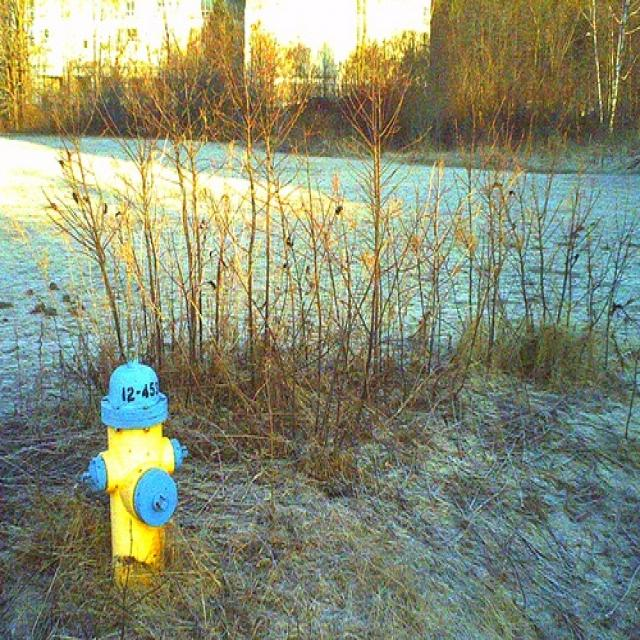fire_hydrant: (78, 345, 188, 587)
